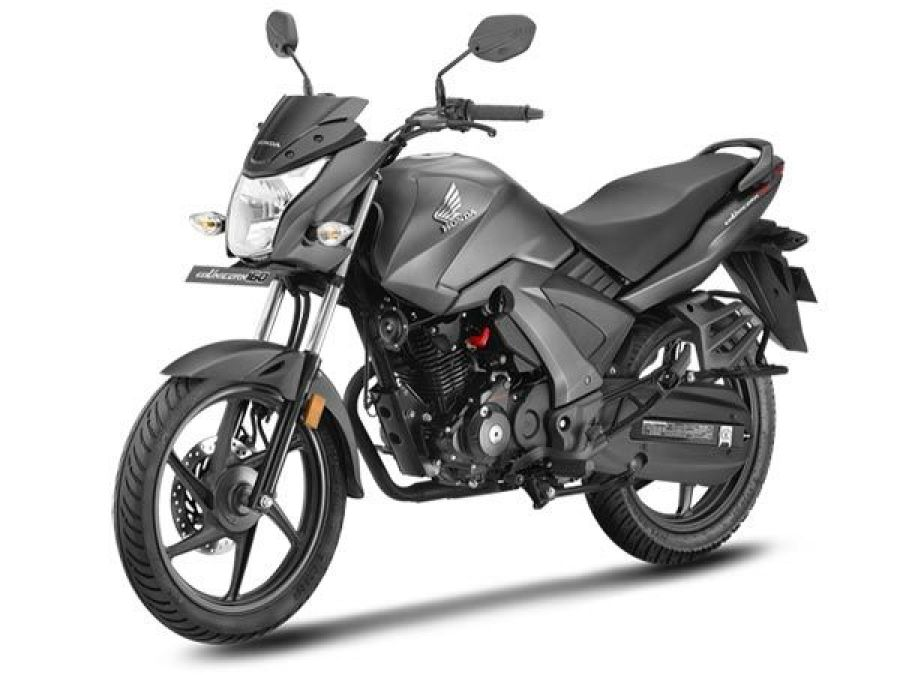bike: (108, 17, 796, 625)
